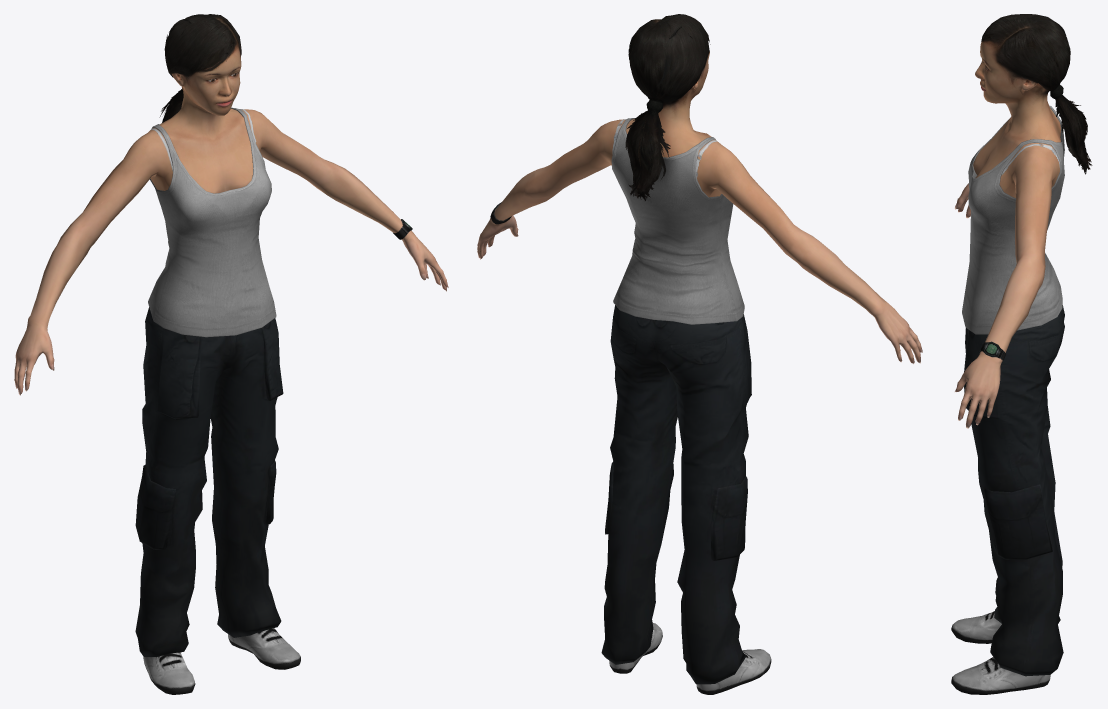
The model's file is patient-female.glb.
The picture shows the model from 3 angles, left to right: view 1: azimuth 30°, elevation 25°; view 2: azimuth 150°, elevation 25°; view 3: azimuth 270°, elevation 25°; orthographic projection. The views are drawn at different scales.
Parts seen in each view (by area): view 1: patient; view 2: patient; view 3: patient.
Part boxes in pixels (x1,y1,x2,y2): patient: (14, 14, 448, 694); patient: (477, 14, 922, 694); patient: (951, 14, 1092, 694).
Bounding box in the file's own units: 1.22 × 1.74 × 0.3466.
Materials: 3 (3 with a texture image).
